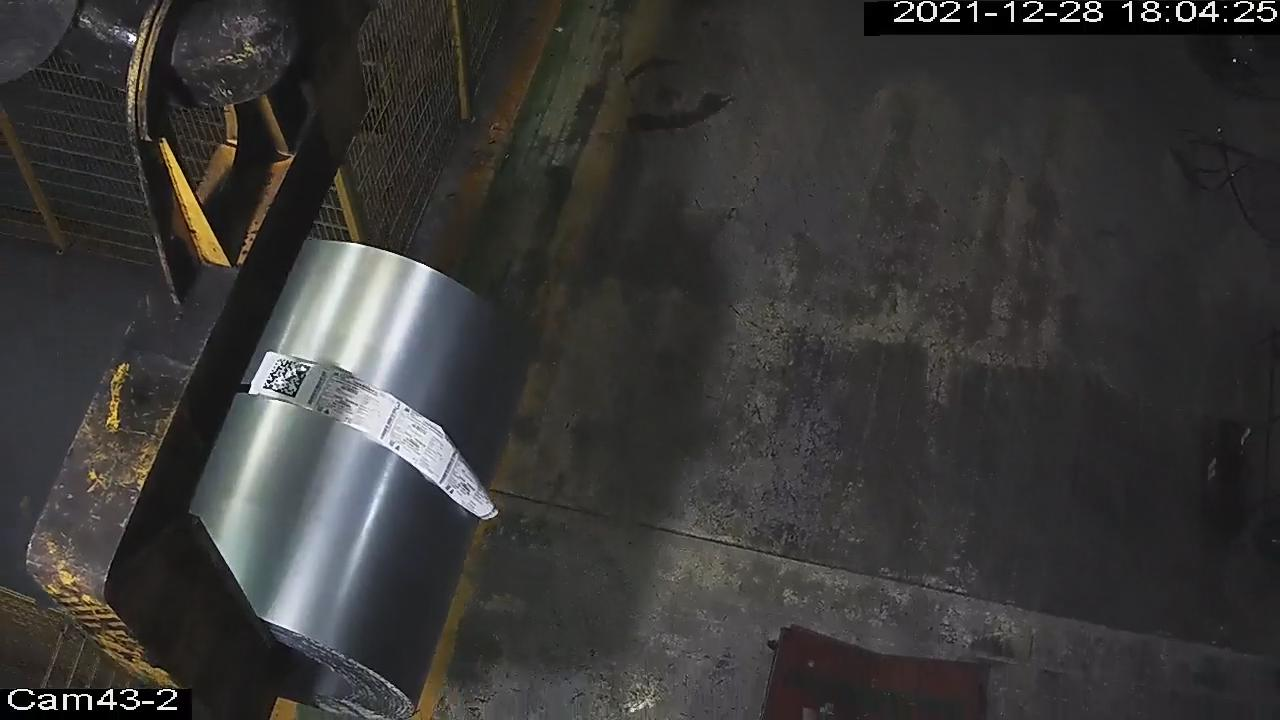data matrix: (262, 357, 314, 401)
